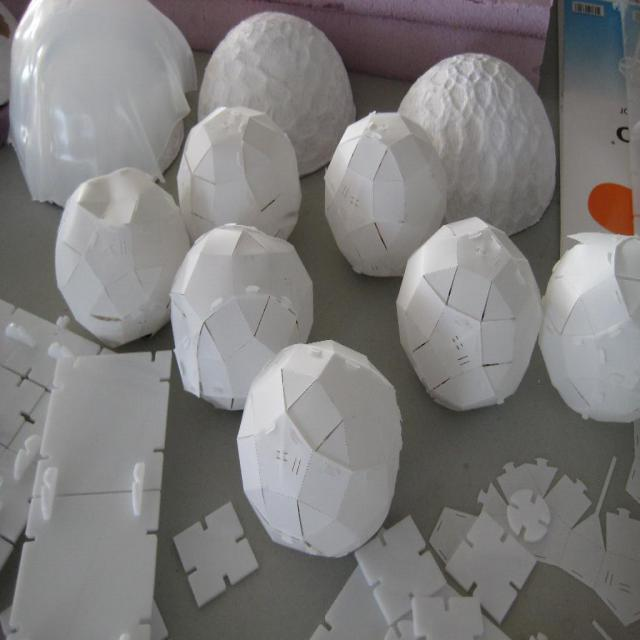ball: (235, 342, 404, 559), (393, 214, 545, 413), (170, 218, 317, 411), (58, 168, 195, 350), (326, 111, 451, 282), (534, 231, 640, 425), (179, 103, 304, 245)
